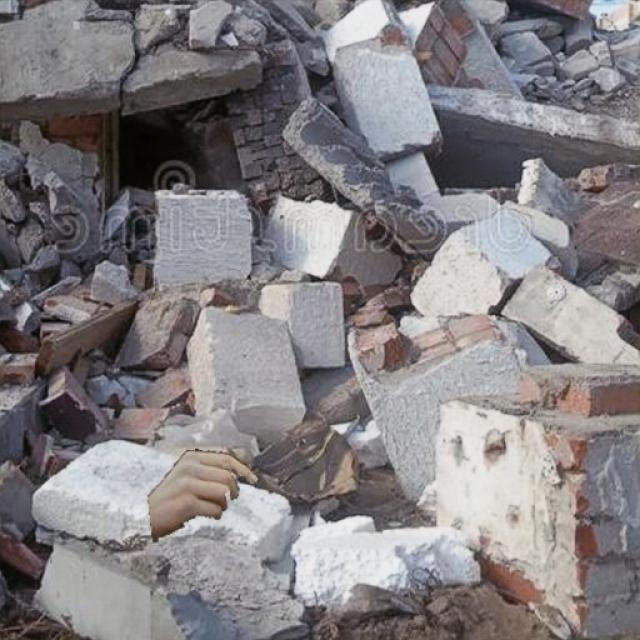Person in Rubble: (148, 448, 258, 542)
